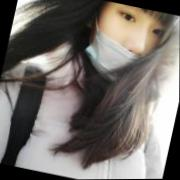WRONG: (88, 2, 178, 91)
